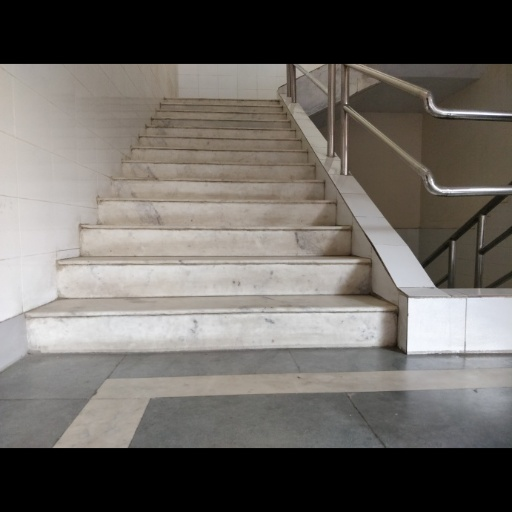Stairs: (27, 100, 397, 353)
